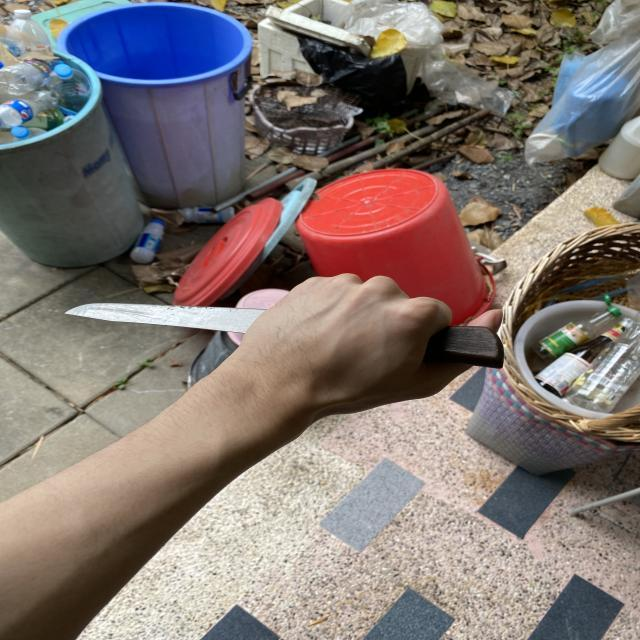faca: (32, 268, 530, 420)
